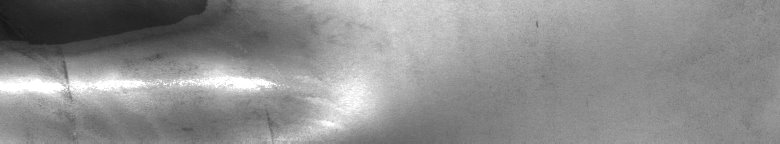ke: (4, 4, 356, 136)
